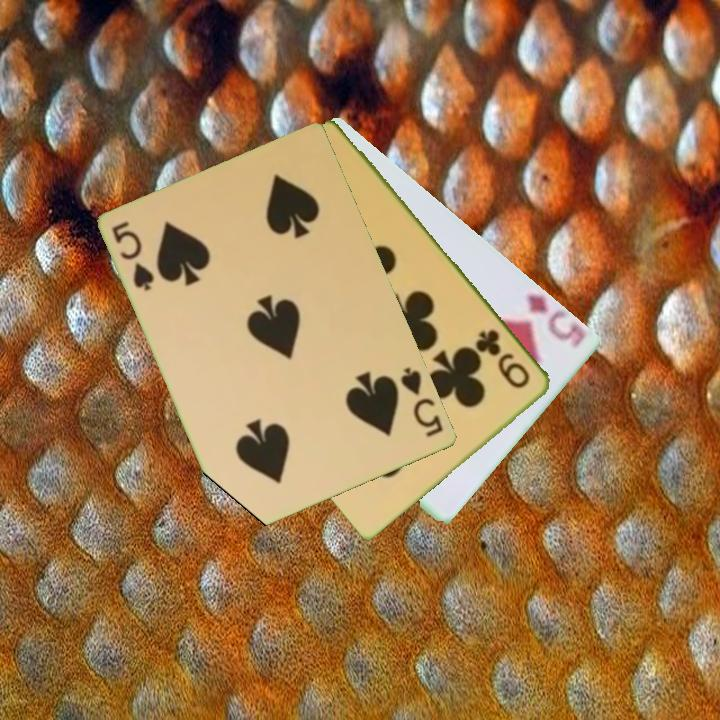5d: (523, 290, 584, 347)
5s: (397, 363, 447, 440), (108, 217, 158, 294)
9c: (473, 326, 534, 392)
